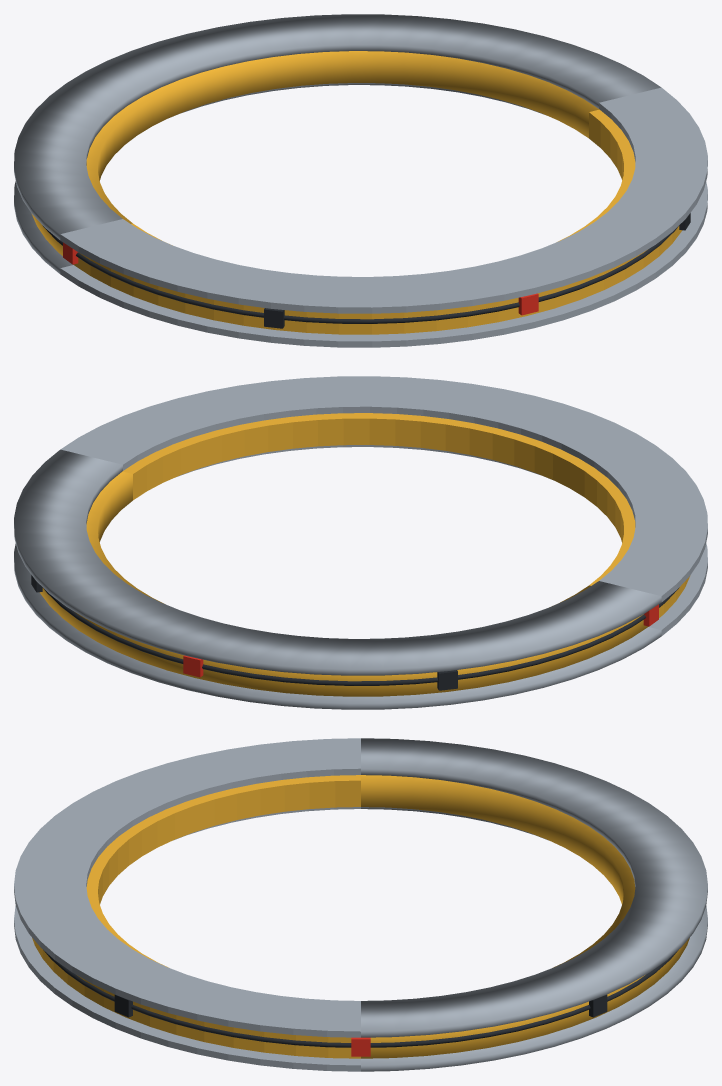
File: procedural-separator.glb
3 views of the same model, one above another, from view 1: azimuth 30°, elevation 25°; view 2: azimuth 150°, elevation 25°; view 3: azimuth 270°, elevation 25° (orthographic).
Parts seen in each view (by area): view 1: PSEP_FlangeTop, PSEP_MainRing, PSEP_FlangeBottom, PSEP_Seam; view 2: PSEP_FlangeTop, PSEP_MainRing, PSEP_FlangeBottom, PSEP_Seam; view 3: PSEP_FlangeTop, PSEP_MainRing, PSEP_FlangeBottom, PSEP_Seam.
Part boxes in pixels (x1,y1,x2,y2): PSEP_FlangeTop: [14, 14, 707, 313]; PSEP_MainRing: [32, 51, 682, 334]; PSEP_FlangeBottom: [14, 83, 707, 347]; PSEP_Seam: [42, 225, 679, 323]; PSEP_FlangeTop: [14, 376, 707, 675]; PSEP_MainRing: [39, 413, 689, 696]; PSEP_FlangeBottom: [14, 445, 707, 709]; PSEP_Seam: [42, 587, 679, 685]; PSEP_FlangeTop: [14, 738, 707, 1037]; PSEP_MainRing: [32, 775, 689, 1058]; PSEP_FlangeBottom: [14, 807, 707, 1071]; PSEP_Seam: [43, 950, 678, 1047].
Bounding box in the file's own units: 2.5 × 0.16 × 2.5.
